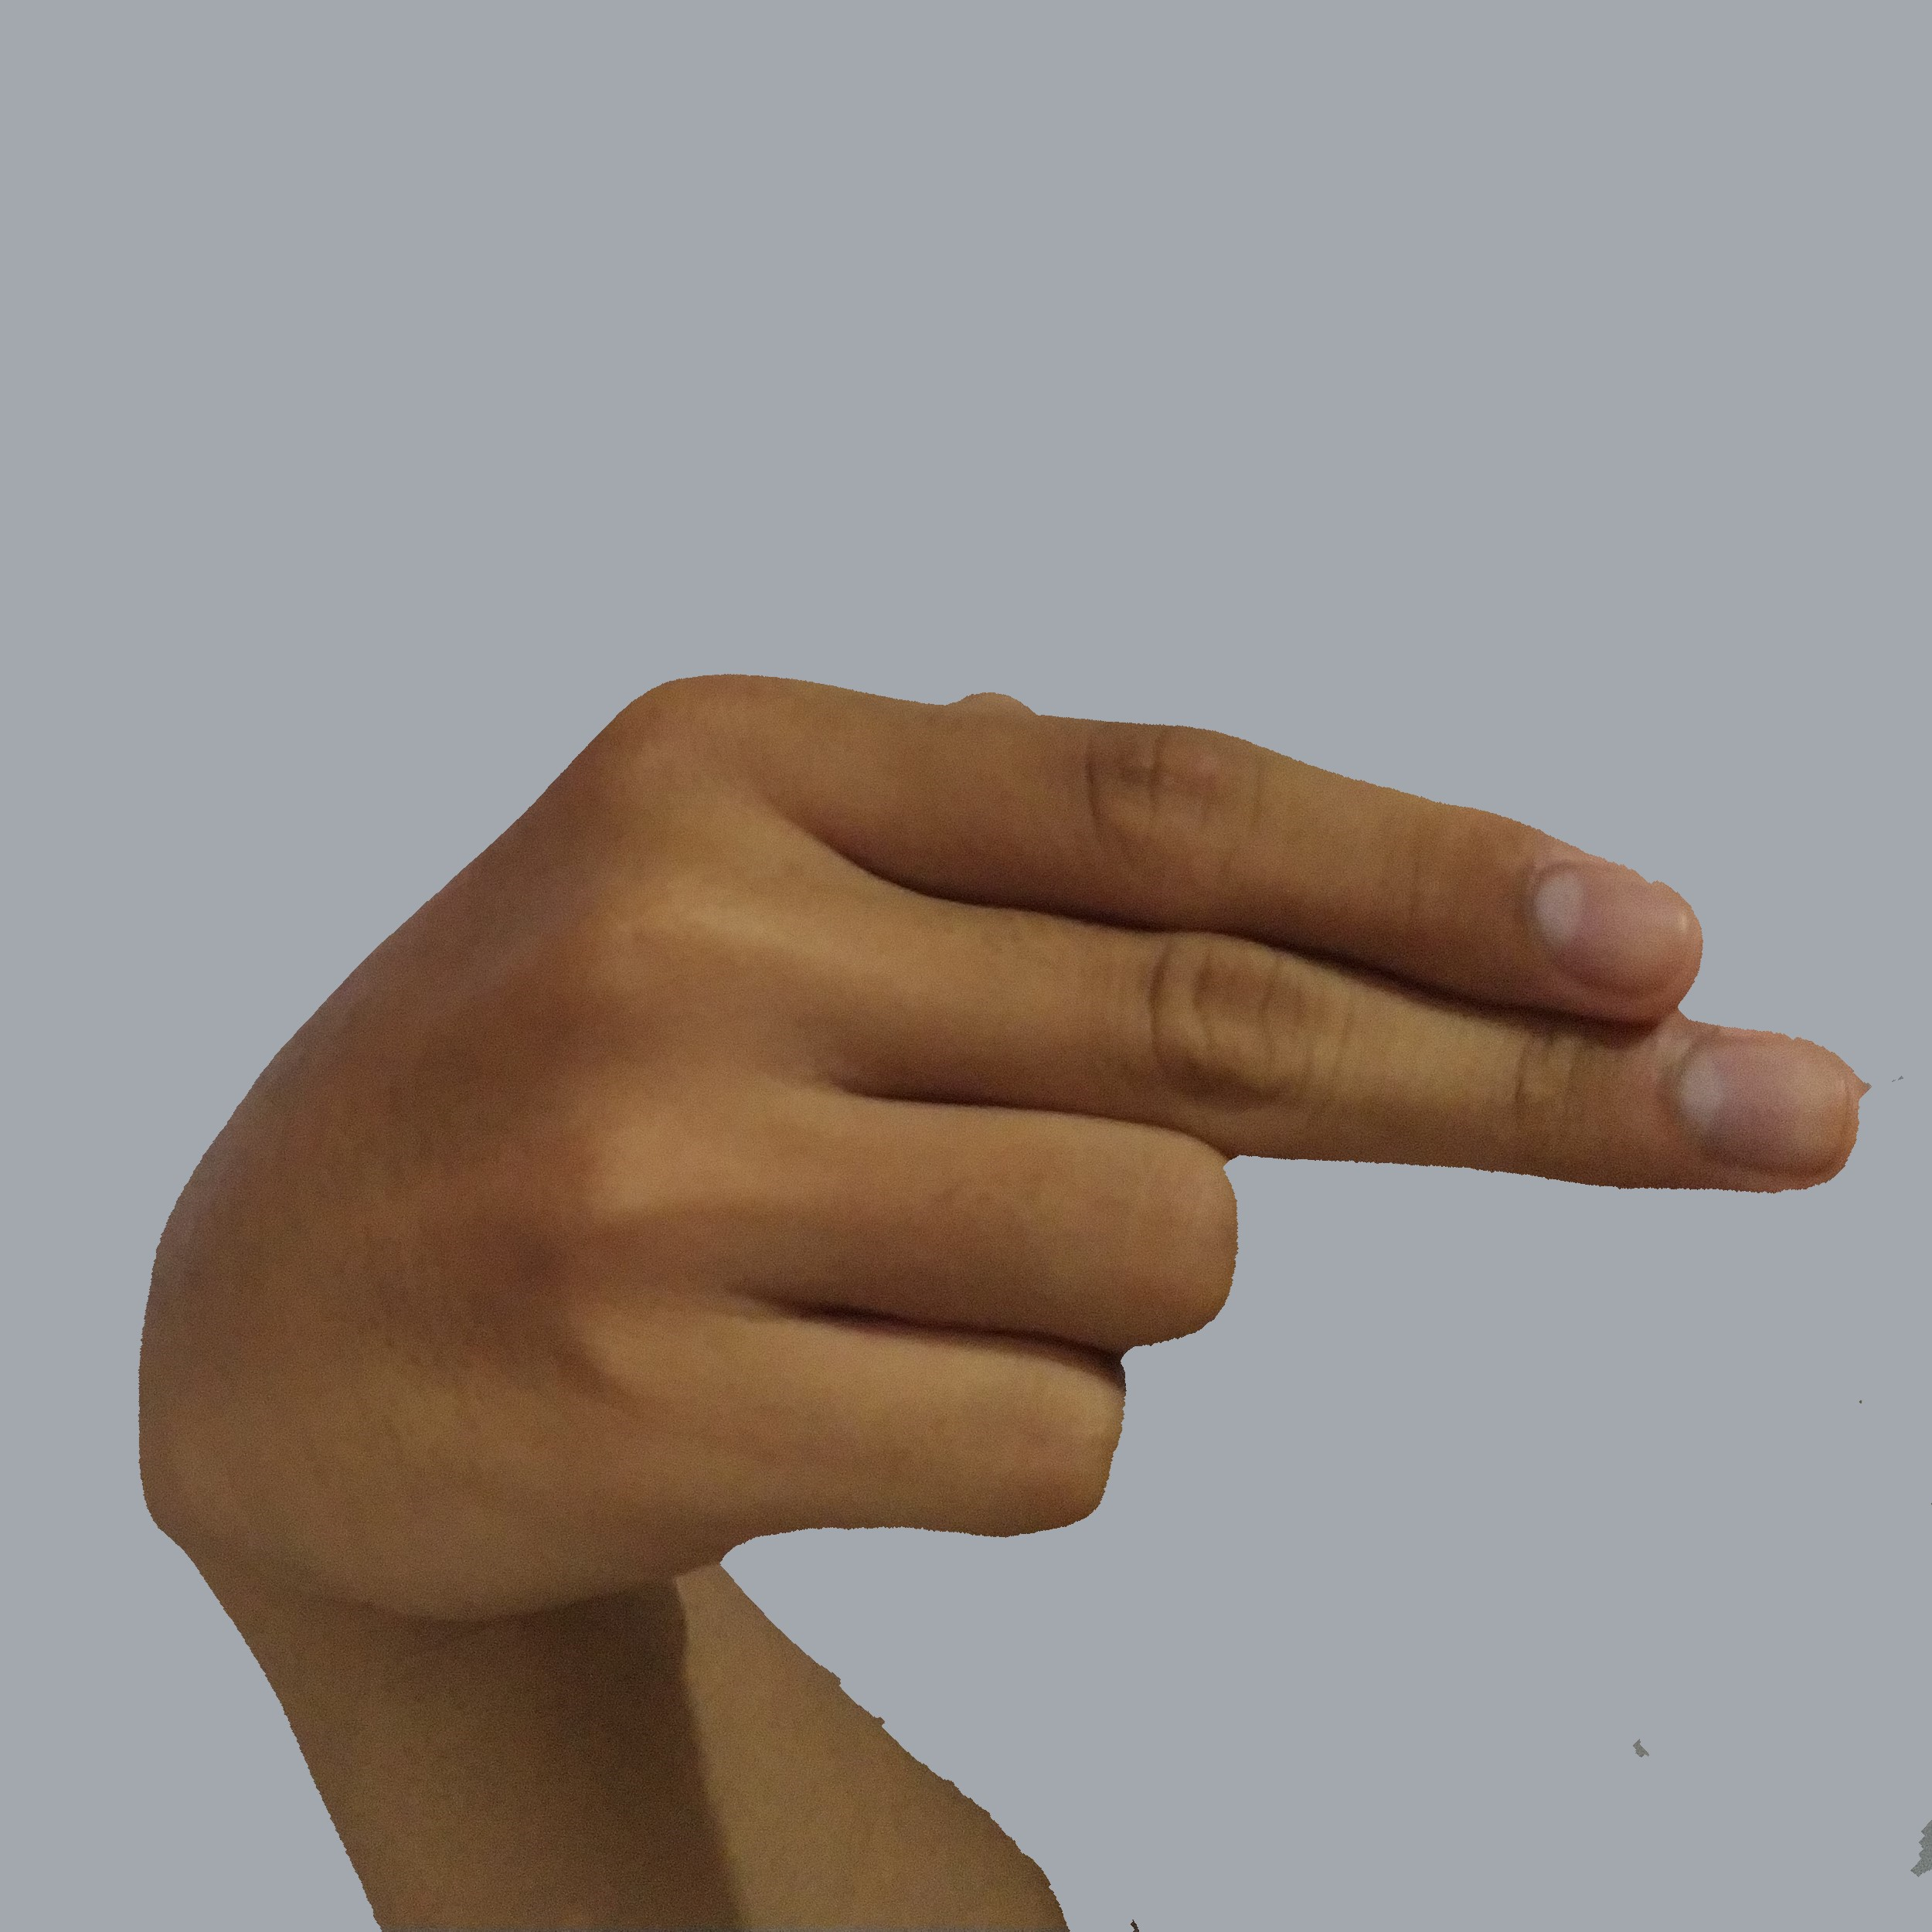H: (136, 649, 1884, 1626)
